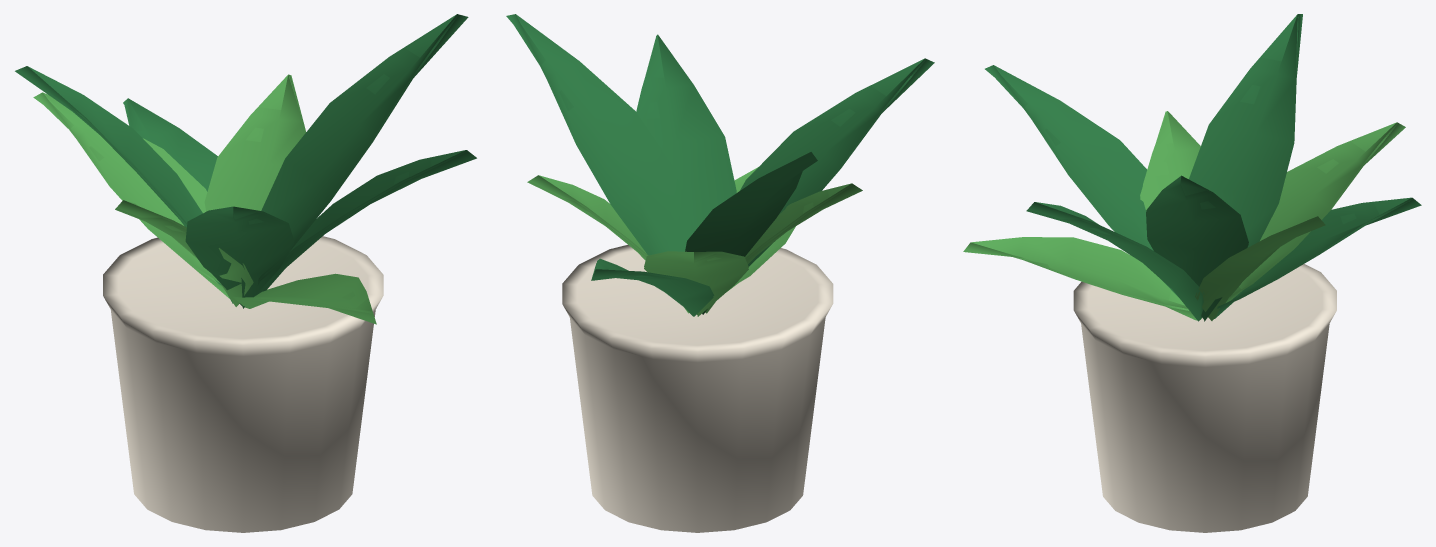
The model's file is RmSmallPlant.fbx.
3 renders of one model, left to right at view 1: azimuth 30°, elevation 25°; view 2: azimuth 150°, elevation 25°; view 3: azimuth 270°, elevation 25°, orthographic. The views are drawn at different scales.
Parts seen in each view (by area): view 1: RmSmallPlantBody; view 2: RmSmallPlantBody; view 3: RmSmallPlantBody.
Part boxes in pixels (bbox=[...]): RmSmallPlantBody: bbox=[15, 14, 476, 532]; RmSmallPlantBody: bbox=[506, 14, 934, 532]; RmSmallPlantBody: bbox=[963, 14, 1421, 532].
Size of the model in its own units: 0.2835 by 0.3013 by 0.3089.
